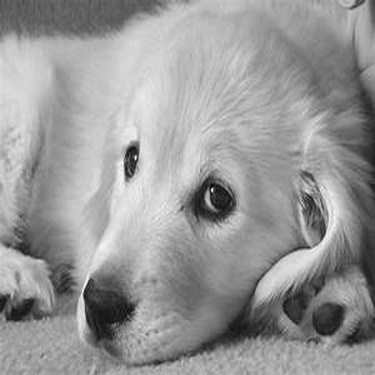dog: (2, 1, 368, 371)
